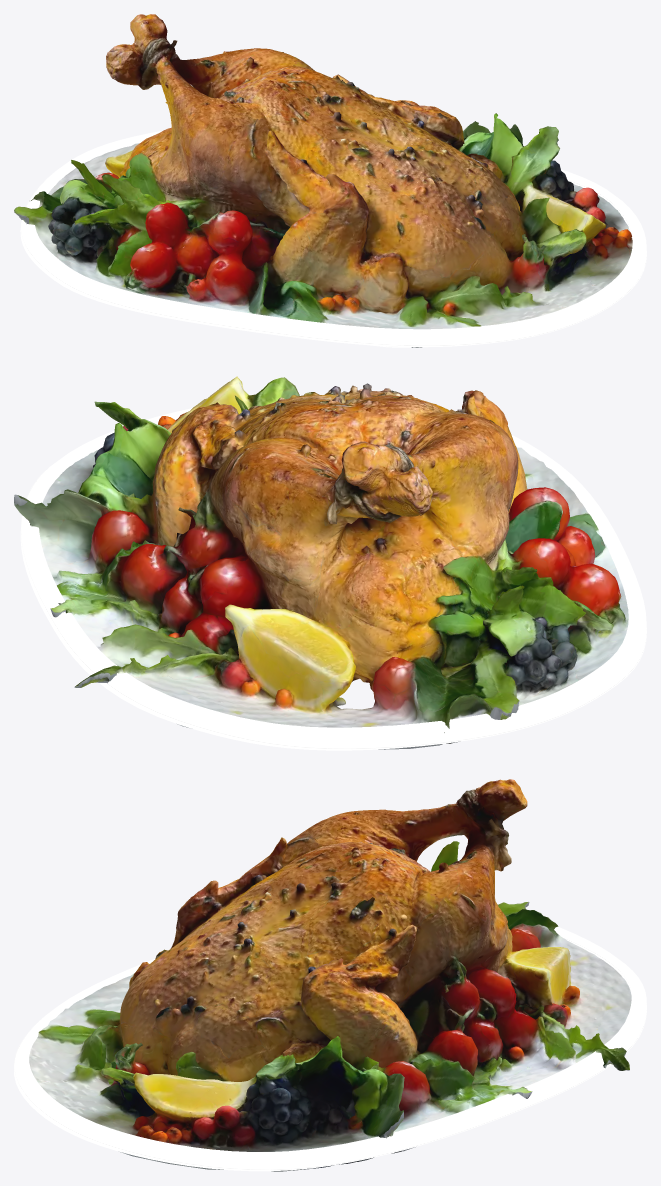
Rendered from roasted-chicken-platter.glb.
The picture shows the model from 3 angles, top to bottom: view 1: azimuth 30°, elevation 25°; view 2: azimuth 150°, elevation 25°; view 3: azimuth 270°, elevation 25°; orthographic projection. The views are drawn at different scales.
Visible parts, largest first — view 1: Object_4, Object_5; view 2: Object_4, Object_5; view 3: Object_4, Object_5.
Part boxes in pixels (box(x1,y1,x2,y2)): Object_4: box(14, 14, 632, 347); Object_5: box(20, 130, 646, 347); Object_4: box(14, 376, 628, 749); Object_5: box(20, 408, 646, 750); Object_4: box(29, 779, 631, 1171); Object_5: box(14, 926, 646, 1171).
Size of the model in its own units: 0.3584 by 0.1323 by 0.3668.
2 materials, 1 textured.
